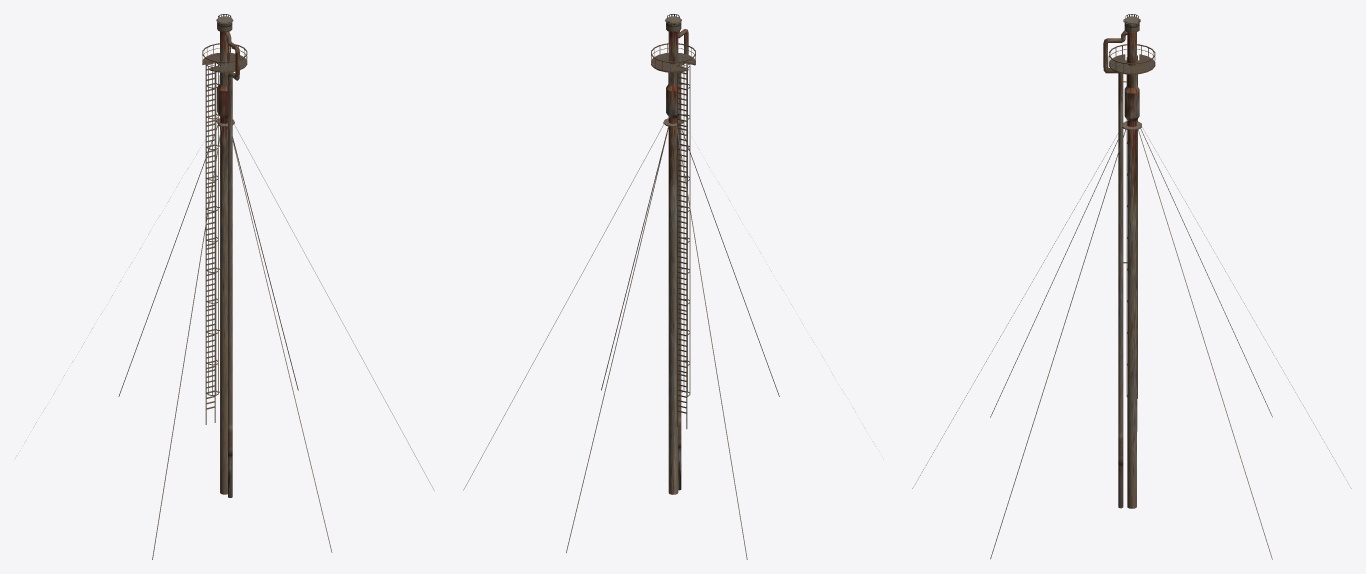
File: O_Flare2.glb
3 renders of one model, left to right at view 1: azimuth 30°, elevation 25°; view 2: azimuth 150°, elevation 25°; view 3: azimuth 270°, elevation 25°, orthographic. The views are drawn at different scales.
Parts seen in each view (by area): view 1: _O_Flare2; view 2: _O_Flare2; view 3: _O_Flare2.
Part boxes in pixels (box(x1,y1,x2,y2)): _O_Flare2: box(25, 14, 434, 559); _O_Flare2: box(463, 14, 864, 559); _O_Flare2: box(912, 14, 1351, 559).
Size of the model in its own units: 33.86 by 54.23 by 44.
7 materials, 7 textured.
